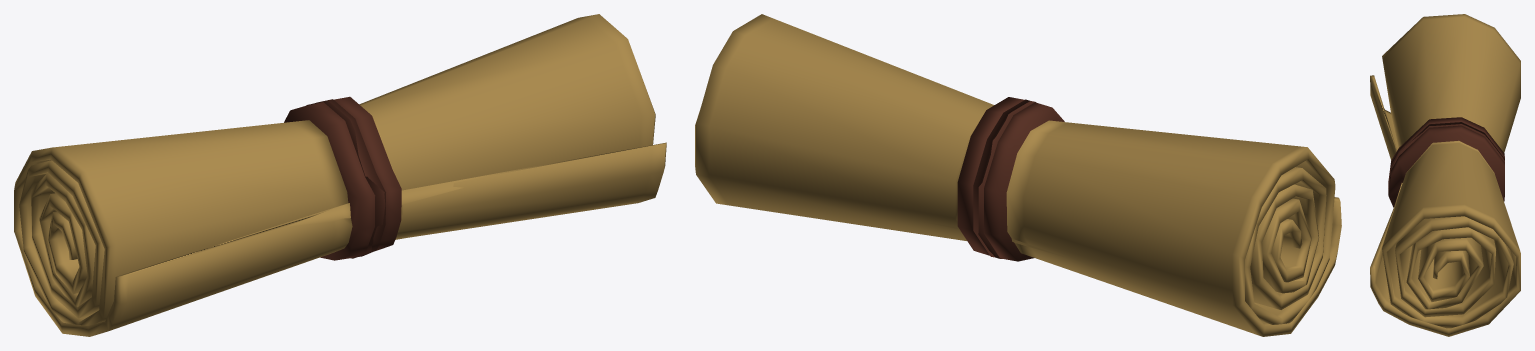
The model's file is Pergaminho.fbx.
3 views of the same model, side by side, from view 1: azimuth 30°, elevation 25°; view 2: azimuth 150°, elevation 25°; view 3: azimuth 270°, elevation 25° (orthographic). The views are drawn at different scales.
Parts seen in each view (by area): view 1: Plane.024; view 2: Plane.024; view 3: Plane.024.
Part boxes in pixels (x1,y1,x2,y2): Plane.024: (14,14,666,336); Plane.024: (695,14,1341,336); Plane.024: (1370,14,1520,336).
Size of the model in its own units: 298 by 91.47 by 97.02.
